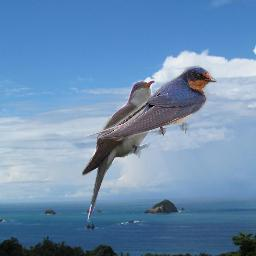Cuckoo: (81, 80, 156, 223)
Swallow: (84, 65, 217, 141)
